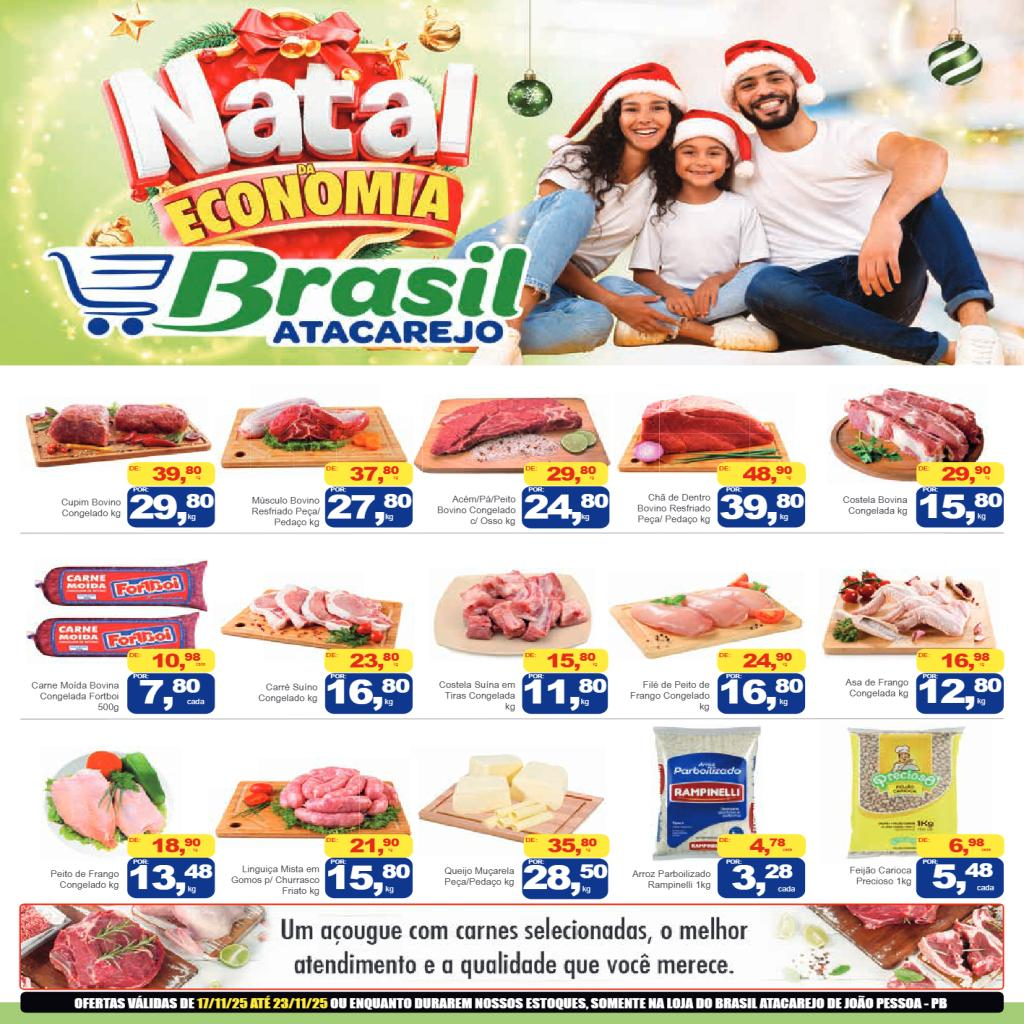price: (324, 492, 414, 528), (522, 492, 609, 528), (719, 492, 805, 528), (522, 864, 607, 900), (522, 678, 608, 713), (325, 678, 413, 712), (127, 864, 215, 898), (325, 864, 412, 898), (917, 492, 1003, 526), (127, 493, 215, 526), (917, 678, 1003, 711), (718, 678, 804, 711), (720, 864, 806, 897), (128, 678, 209, 712), (920, 864, 1001, 896)
product_text: (228, 862, 322, 898), (30, 678, 122, 714), (432, 492, 520, 529), (627, 678, 713, 713), (437, 677, 518, 714), (633, 490, 713, 526), (245, 494, 323, 530), (628, 869, 713, 893), (441, 864, 516, 890), (842, 676, 913, 702), (841, 491, 909, 518), (254, 680, 321, 707), (48, 868, 121, 891), (57, 496, 124, 520), (847, 864, 913, 888)
